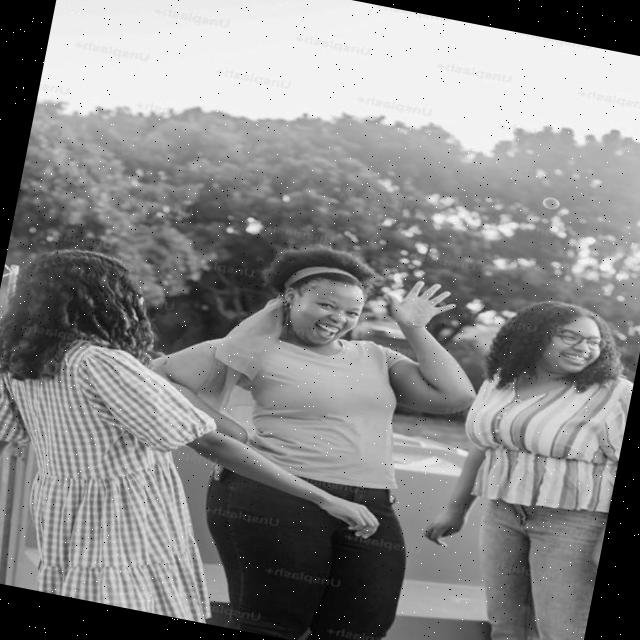Happiness: (284, 274, 366, 355), (540, 310, 608, 383)
